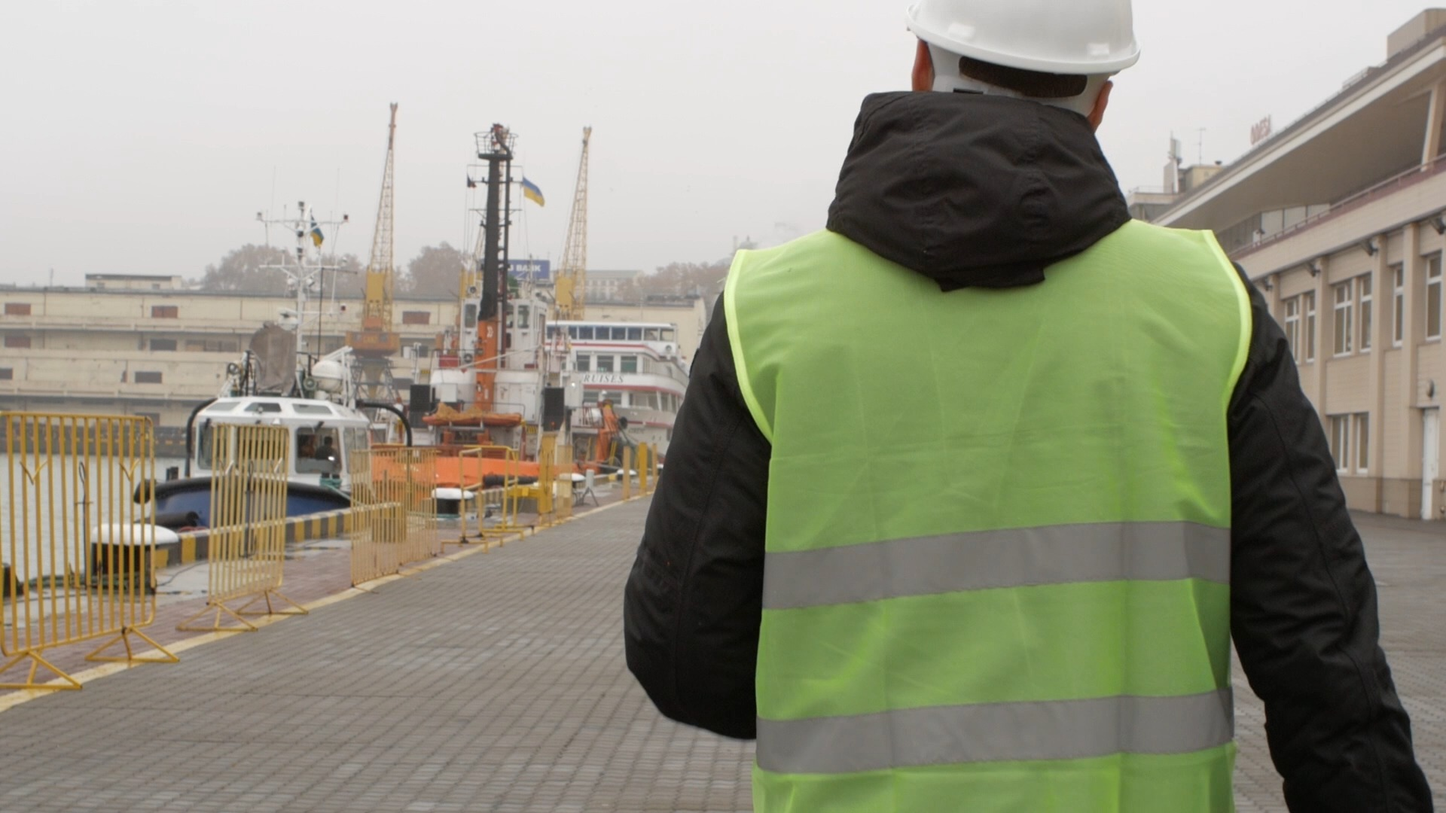safety_helmet: (904, 0, 1142, 78)
